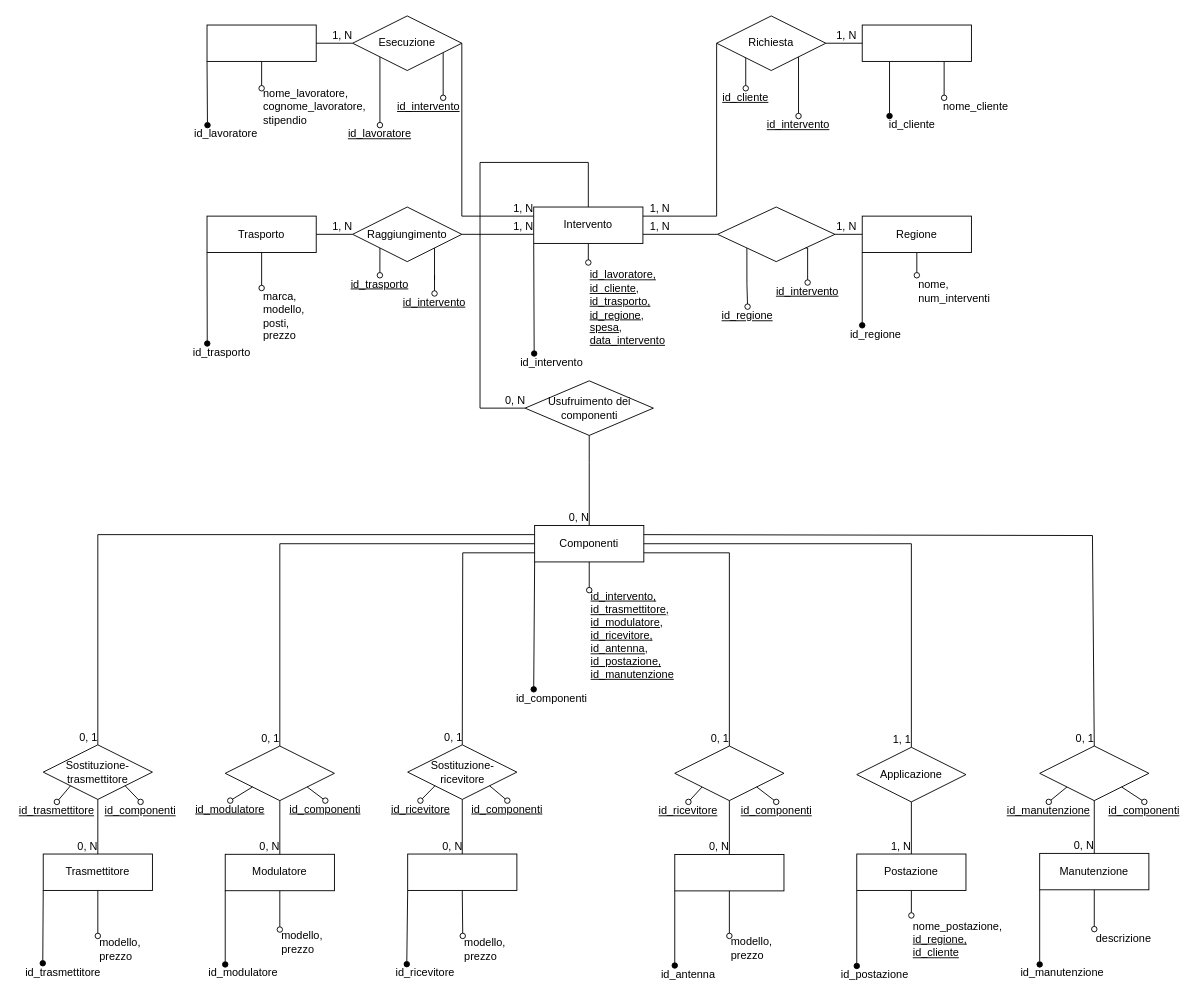
This 1196x1000 diagram has some shape labels left out. Each missing label, with the centre of its shape:
"Antenna" goes at [729,872].
"Cliente" goes at [916,42].
"Effettuata manutenzione" goes at [1094,773].
"Esecuzione nella" goes at [776,234].
"Lavoratore" goes at [261,42].
"Ricevitore" goes at [462,871].
"Sostituzione- antenna" goes at [729,773].
"Sostituzione-modulatore" goes at [279,773].
